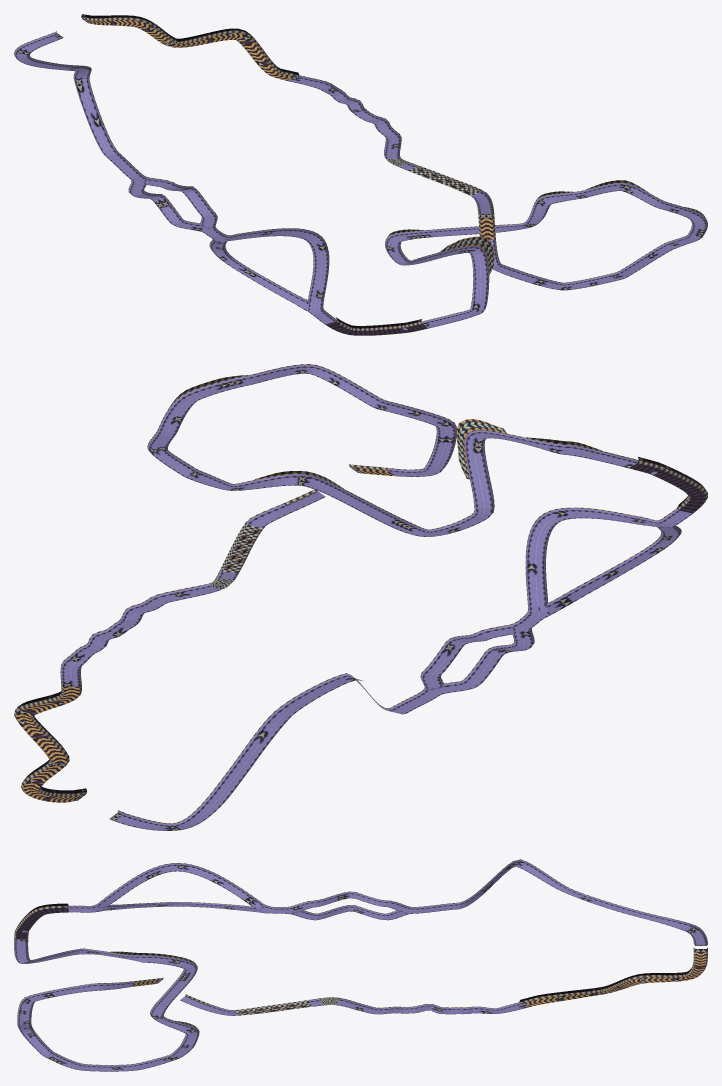
File: Track_08_mesh.glb
3 renders of one model, top to bottom at view 1: azimuth 30°, elevation 25°; view 2: azimuth 150°, elevation 25°; view 3: azimuth 270°, elevation 25°, orthographic. The views are drawn at different scales.
Parts seen in each view (by area): view 1: Mesh_0; view 2: Mesh_0; view 3: Mesh_0.
Part boxes in pixels (<box>): Mesh_0: <box>14,14,707,335</box>; Mesh_0: <box>14,364,707,830</box>; Mesh_0: <box>14,859,707,1071</box>.
Bounding box in the file's own units: 1311 × 170 × 2072.
17 materials, 17 textured.
